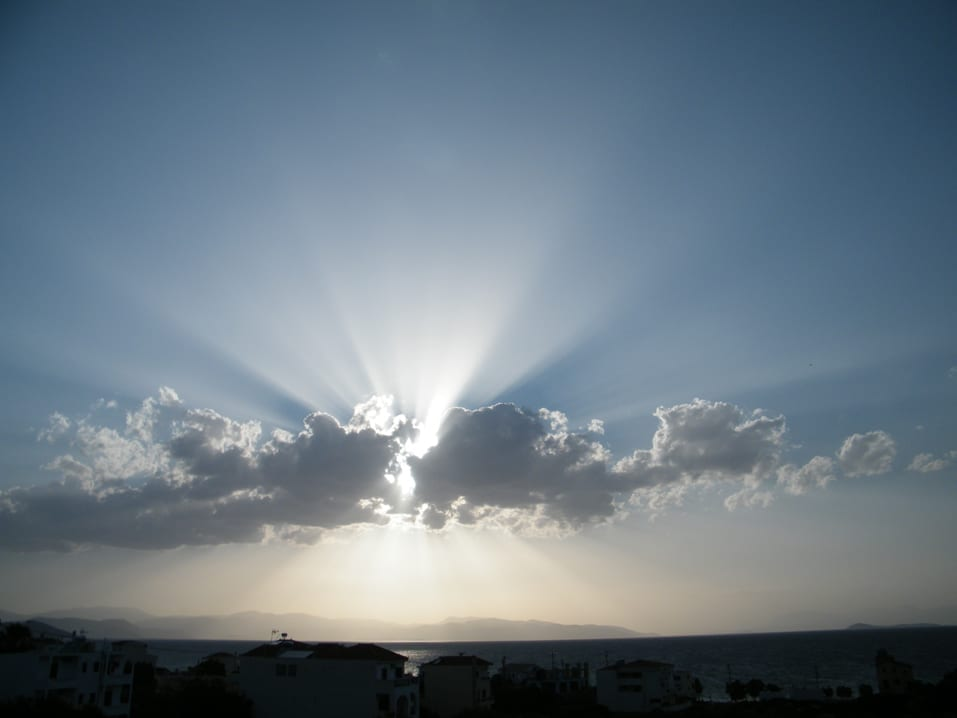Stratus: (35, 358, 931, 566)
